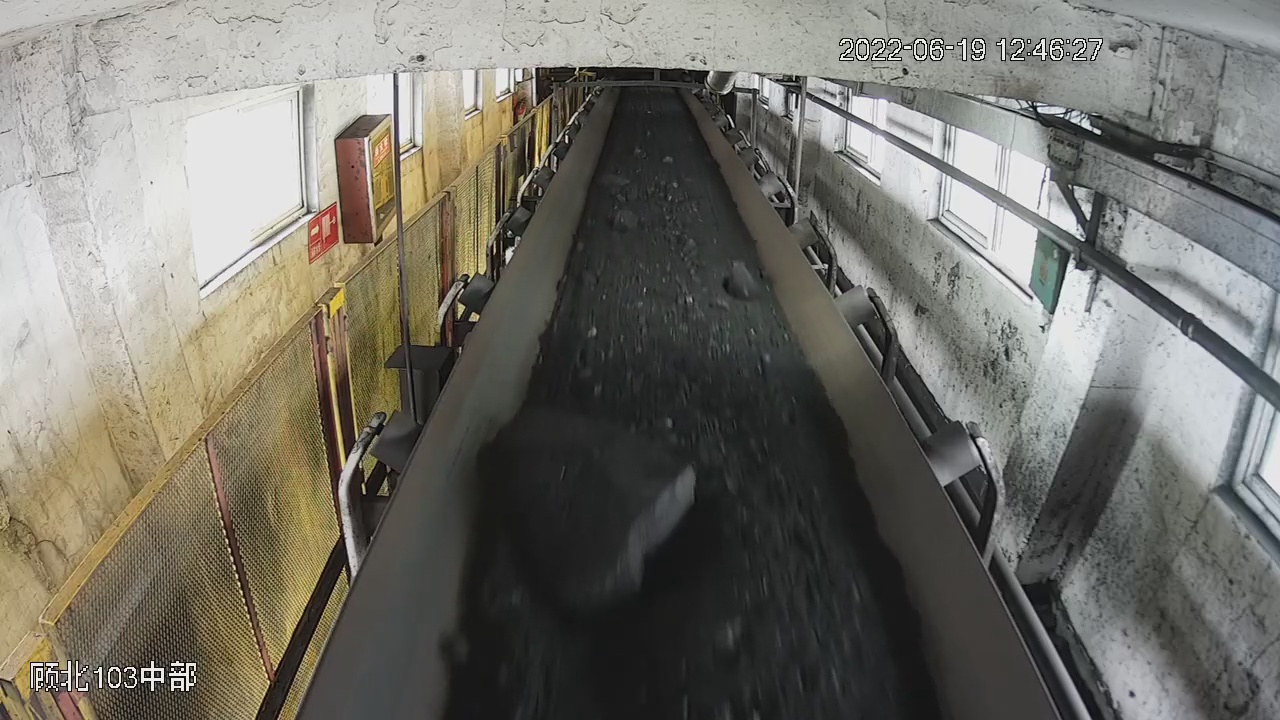gangue: (478, 408, 696, 616), (728, 259, 759, 299), (597, 170, 630, 188), (613, 210, 640, 229)
